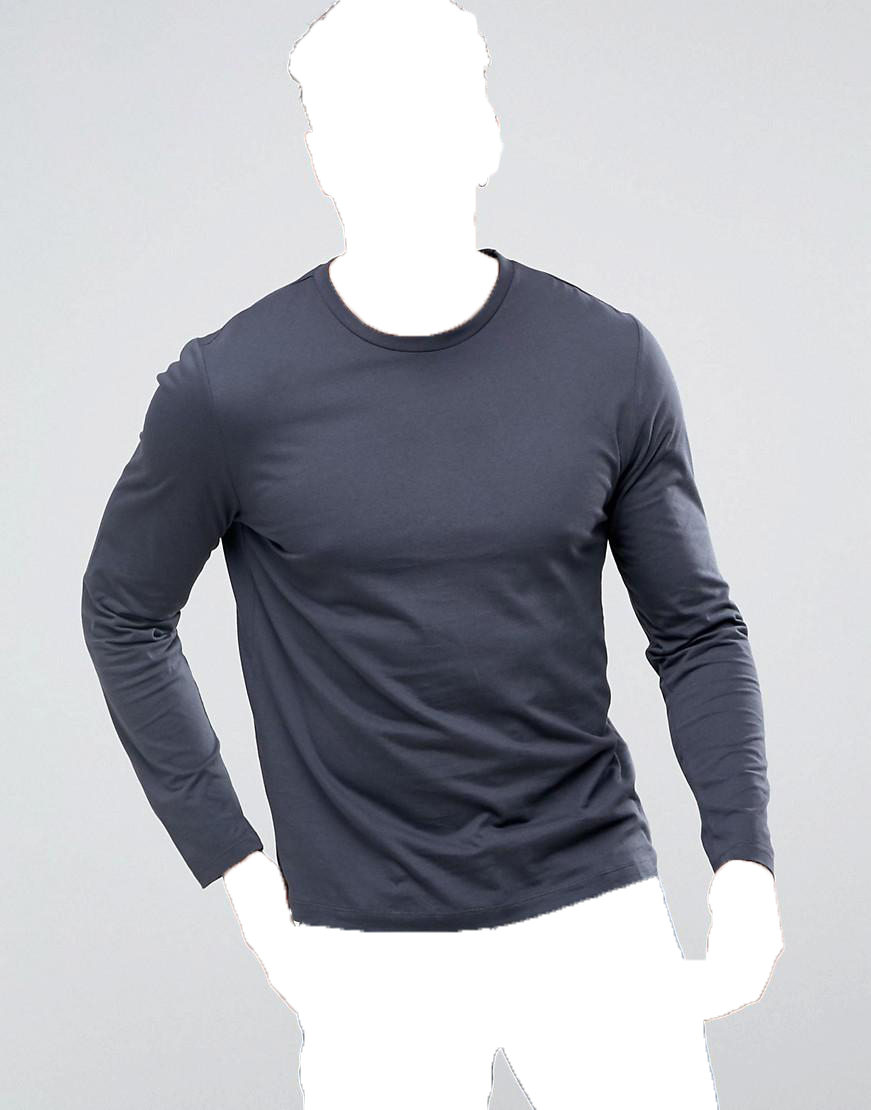teeshirt: (73, 251, 783, 939)
